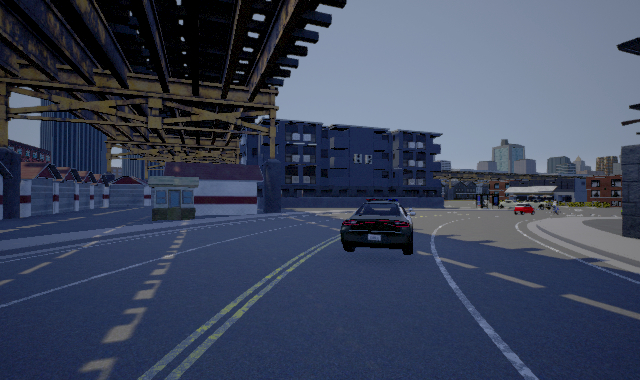vehicle: (340, 198, 416, 255), (513, 202, 536, 214)
